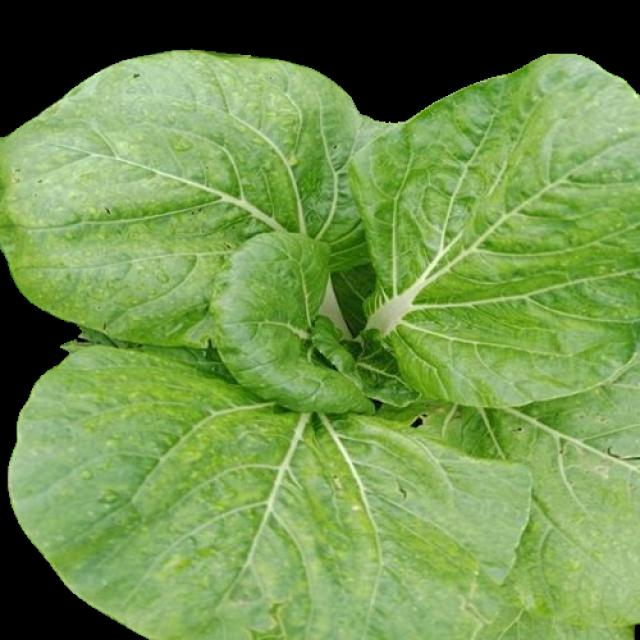mature: (1, 51, 638, 640)
unhealthy: (6, 345, 531, 640), (6, 51, 368, 348), (380, 359, 634, 640)
